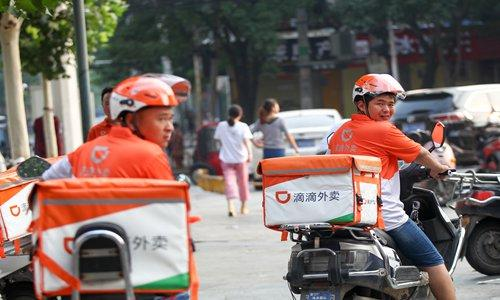helmet: (100, 80, 184, 144), (349, 62, 408, 121)
